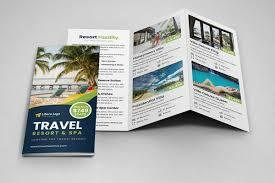paper: (23, 9, 250, 156)
